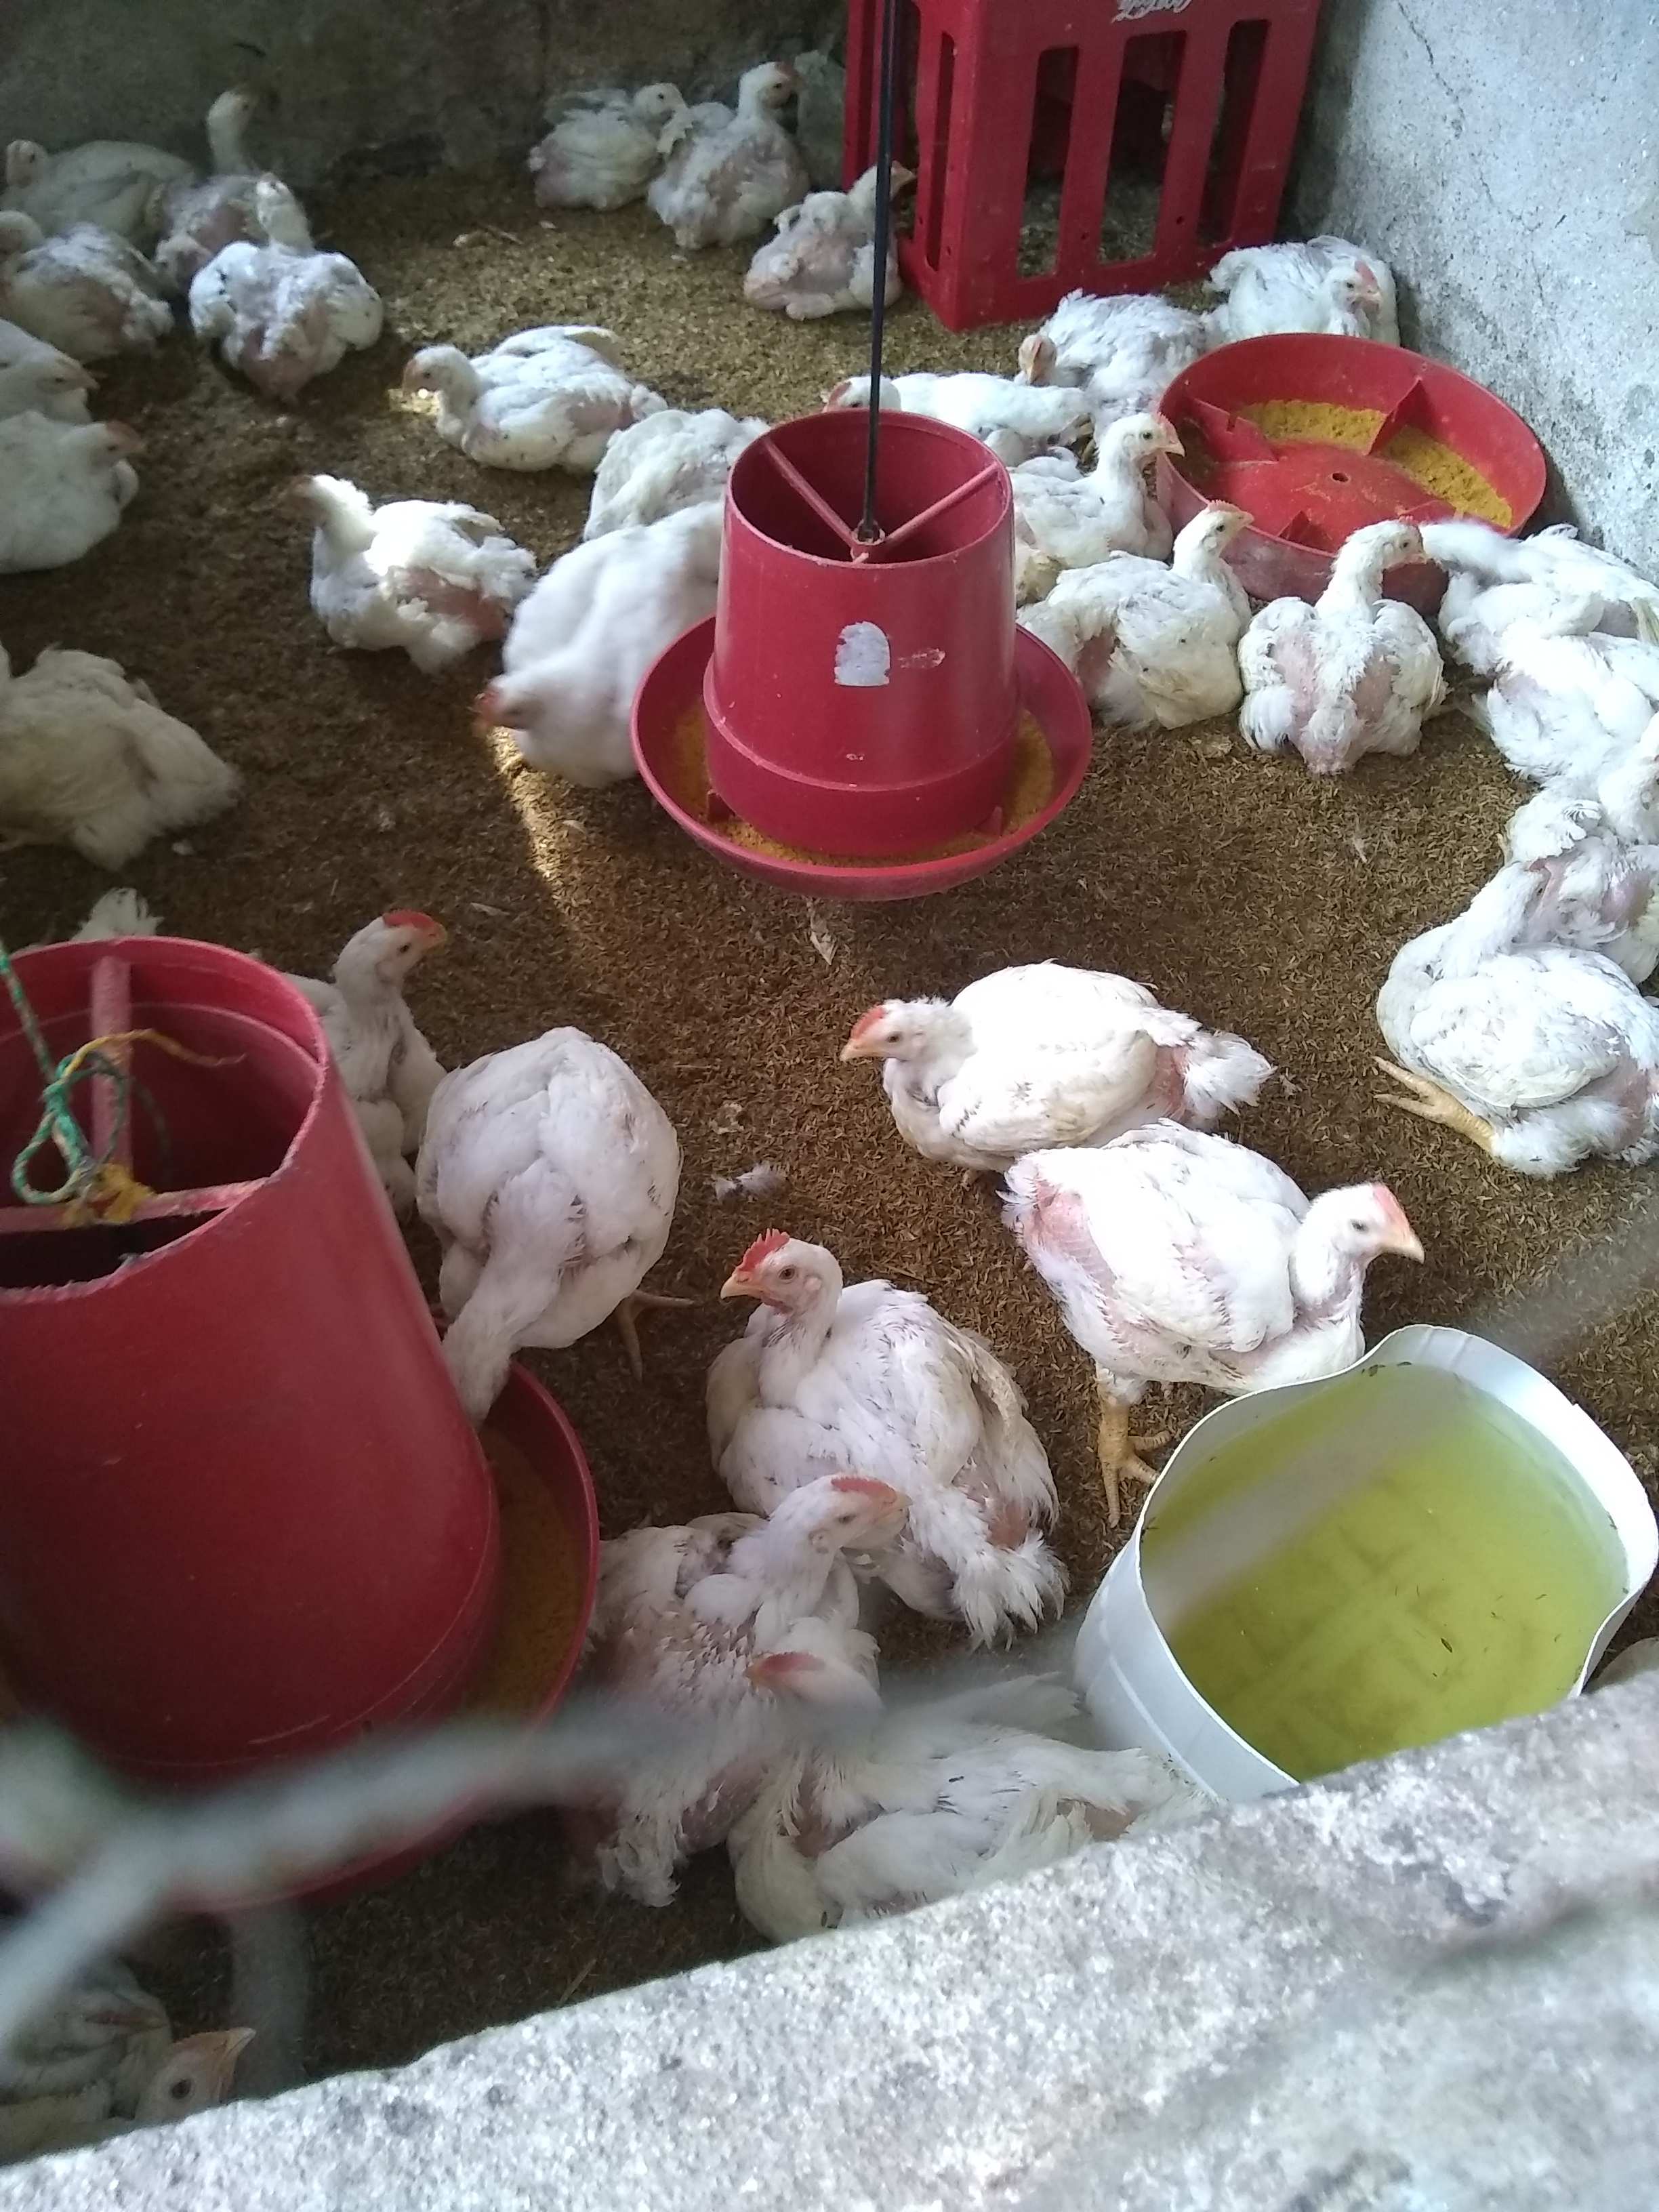Pollos: (669, 1223, 1082, 1639), (737, 1620, 1194, 1970), (979, 1130, 1436, 1402), (403, 984, 674, 1432), (1358, 859, 1659, 1207), (427, 489, 756, 772), (544, 1460, 772, 1864), (800, 965, 1270, 1160), (223, 843, 460, 1115), (1398, 402, 1640, 655), (0, 606, 228, 853), (1241, 486, 1431, 766), (272, 446, 504, 650), (1070, 498, 1270, 705), (181, 165, 371, 383), (403, 277, 601, 470), (0, 206, 209, 359), (744, 150, 929, 322), (0, 1986, 265, 2106), (1471, 618, 1652, 792), (676, 38, 823, 242), (582, 359, 756, 528), (521, 57, 680, 230), (1014, 413, 1194, 554), (5, 110, 227, 206), (0, 413, 143, 561), (990, 289, 1138, 427), (0, 305, 113, 469), (1232, 239, 1403, 347), (181, 54, 293, 209), (812, 336, 896, 463)
